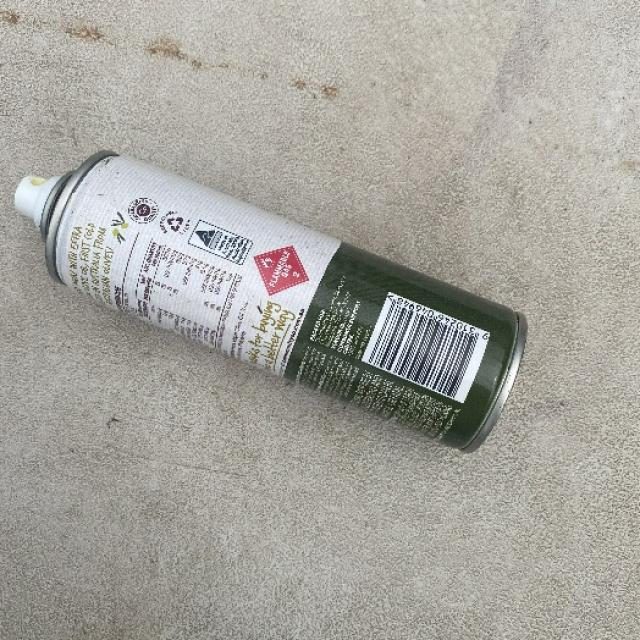metal: (14, 148, 528, 452)
